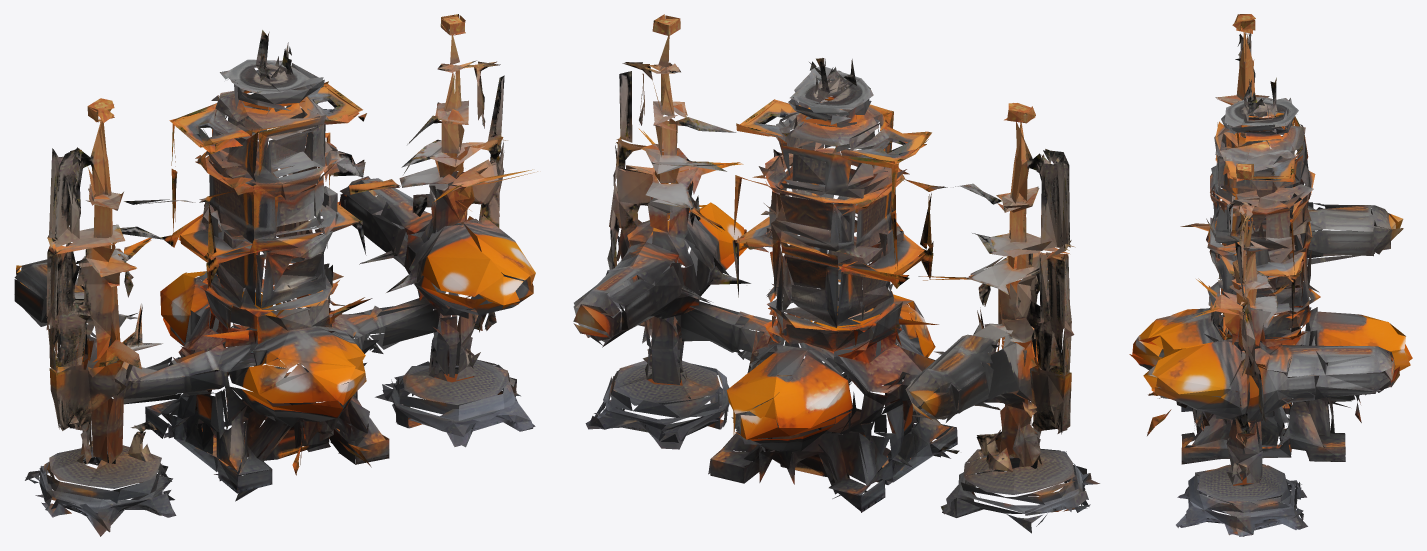
Rendered from arc_yard_t1.fbx.
3 renders of one model, left to right at view 1: azimuth 30°, elevation 25°; view 2: azimuth 150°, elevation 25°; view 3: azimuth 270°, elevation 25°, orthographic. The views are drawn at different scales.
Visible parts, largest first — view 1: arc_yard_t1; view 2: arc_yard_t1; view 3: arc_yard_t1.
Part boxes in pixels (bbox=[...]): arc_yard_t1: bbox=[14, 14, 537, 536]; arc_yard_t1: bbox=[573, 14, 1099, 533]; arc_yard_t1: bbox=[1129, 14, 1412, 536].
Size of the model in its own units: 3 by 2.49 by 1.75.
1 material, 1 textured.
